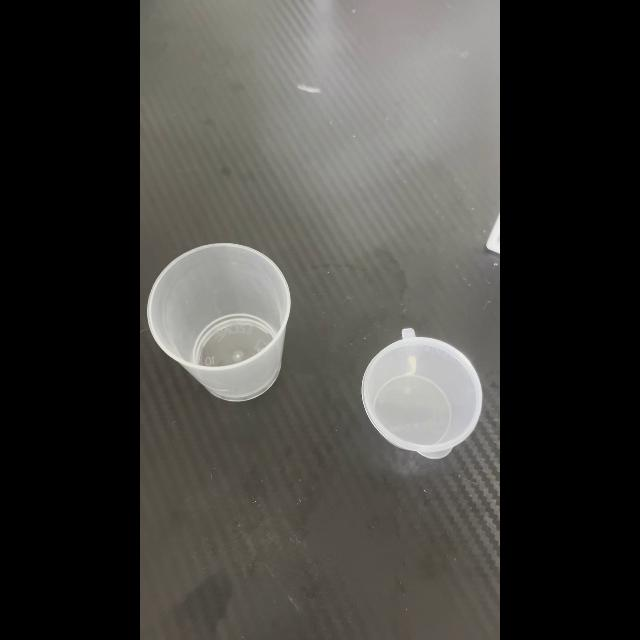clean: (146, 244, 292, 398), (361, 330, 485, 456)
